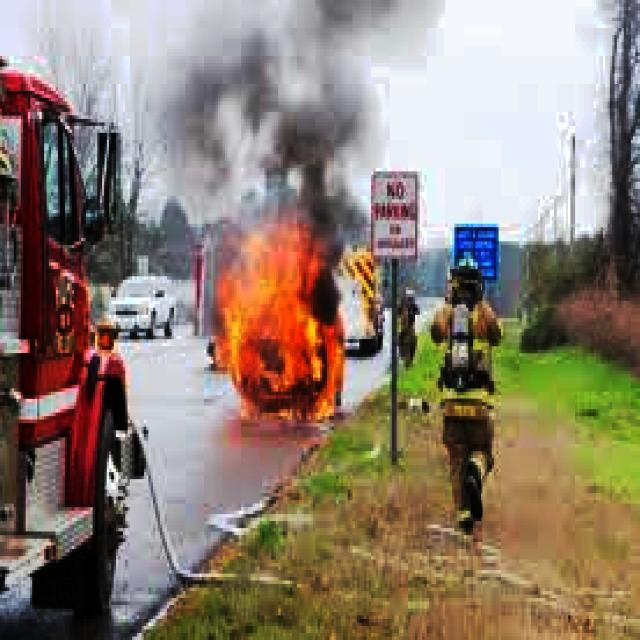api: (203, 211, 367, 445)
